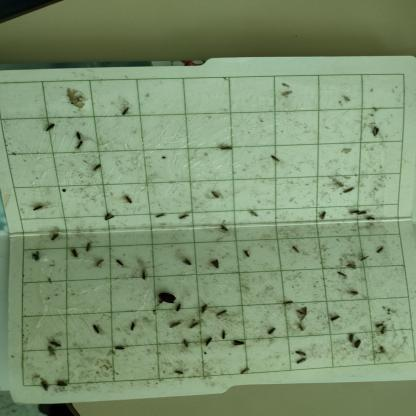prays_oleae: (295, 298, 314, 326), (164, 316, 184, 340), (218, 138, 236, 162), (99, 207, 115, 232), (343, 284, 364, 303), (370, 116, 382, 149), (269, 148, 285, 172), (214, 304, 231, 326), (90, 156, 106, 179), (38, 118, 58, 136), (111, 339, 129, 359), (168, 366, 188, 384), (113, 252, 128, 275), (93, 253, 107, 277), (198, 294, 212, 318), (55, 374, 70, 396), (48, 332, 64, 352), (44, 343, 60, 363), (35, 379, 51, 399), (340, 179, 356, 199), (82, 235, 96, 257), (356, 202, 370, 224), (216, 218, 230, 240), (208, 254, 222, 276), (154, 207, 170, 226), (32, 198, 46, 219), (328, 310, 342, 330), (283, 294, 297, 314), (180, 334, 194, 354), (172, 295, 183, 320), (45, 230, 62, 246), (356, 250, 371, 268), (122, 191, 136, 210), (364, 211, 378, 230), (264, 326, 280, 342), (230, 334, 246, 350), (87, 320, 101, 338), (177, 204, 191, 222), (342, 259, 360, 273), (202, 333, 214, 354), (30, 246, 42, 266), (240, 361, 251, 382), (317, 205, 328, 226), (243, 246, 256, 263), (69, 244, 80, 264), (181, 252, 192, 272), (123, 103, 133, 124), (128, 320, 139, 338), (219, 325, 228, 347), (249, 206, 260, 224), (186, 318, 200, 332), (210, 189, 223, 203), (139, 267, 148, 287), (292, 356, 307, 368), (375, 244, 386, 260), (349, 206, 360, 221), (378, 324, 389, 338), (291, 349, 306, 359), (374, 317, 384, 332), (73, 132, 85, 142), (76, 138, 82, 154)
